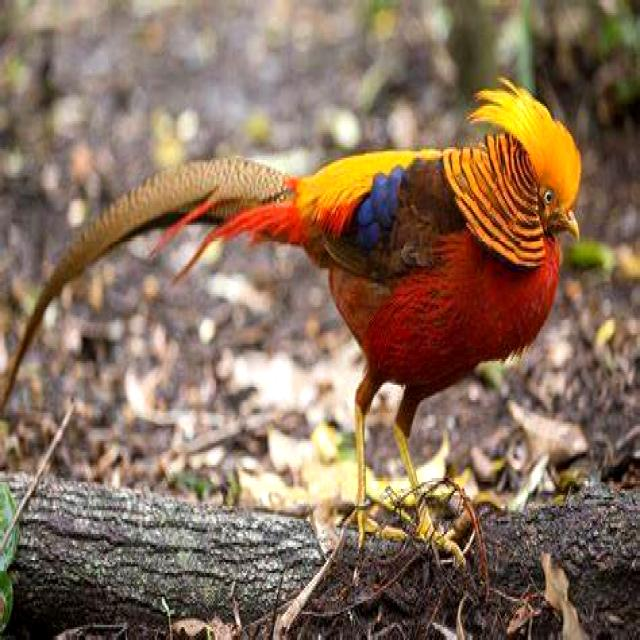Chrysolophus pictus feather: (9, 158, 285, 380)
